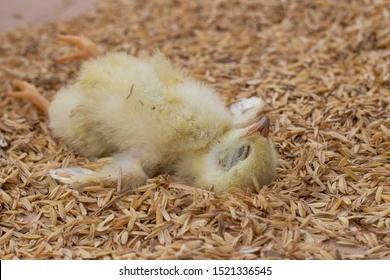AbNormal: (12, 31, 296, 205)
